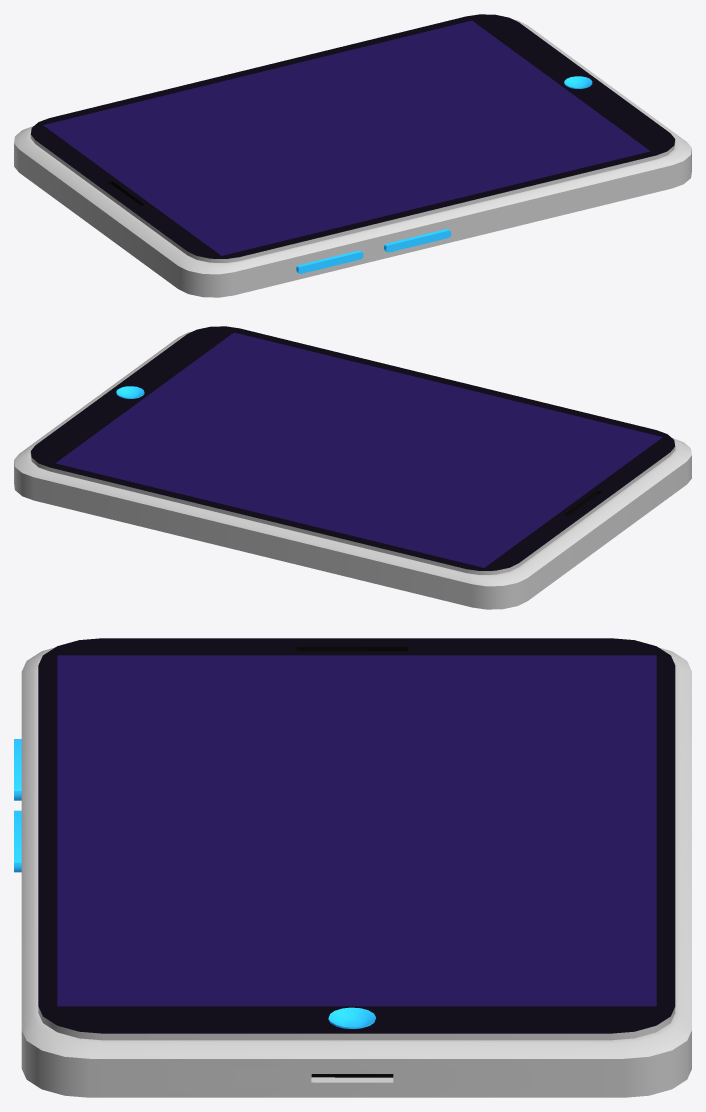
Rendered from Tablet.fbx.
3 views of the same model, one above another, from view 1: azimuth 30°, elevation 25°; view 2: azimuth 150°, elevation 25°; view 3: azimuth 270°, elevation 25° (orthographic). The views are drawn at different scales.
Parts seen in each view (by area): view 1: Tablet; view 2: Tablet; view 3: Tablet.
Part boxes in pixels (x1,y1,x2,y2): Tablet: (14,14,691,297); Tablet: (14,326,691,609); Tablet: (14,638,691,1097).
Bounding box in the file's own units: 200 × 13.12 × 138.
